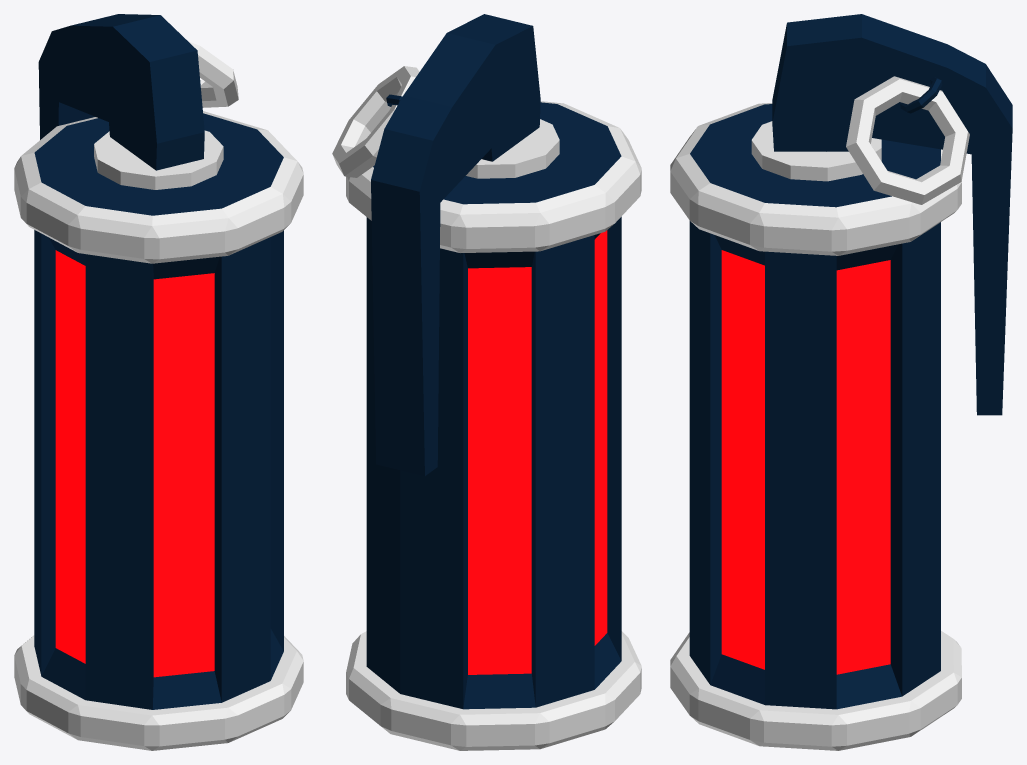
The model's file is grenade.fbx.
3 views of the same model, side by side, from view 1: azimuth 30°, elevation 25°; view 2: azimuth 150°, elevation 25°; view 3: azimuth 270°, elevation 25° (orthographic). The views are drawn at different scales.
Parts seen in each view (by area): view 1: Cylinder, Cylinder.001; view 2: Cylinder, Cylinder.001; view 3: Cylinder, Cylinder.001.
Boxes of the visible parts, box(x1,y1,x2,y2) form: Cylinder: box(14, 14, 303, 750); Cylinder.001: box(188, 41, 238, 107); Cylinder: box(346, 14, 641, 750); Cylinder.001: box(332, 66, 419, 177); Cylinder: box(670, 14, 1012, 750); Cylinder.001: box(846, 76, 969, 204).
Size of the model in its own units: 230 by 573 by 267.
